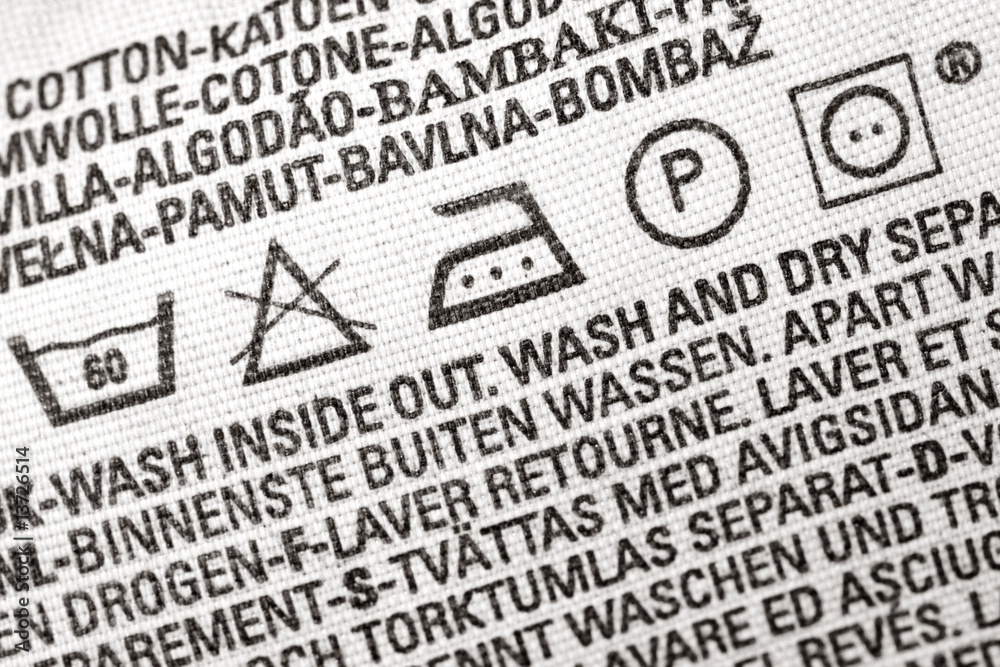ER_dry_clean_chemical: (613, 111, 758, 254)
ER_iron_high_temp: (402, 175, 596, 330)
ER_no_bleach: (213, 237, 388, 387)
ER_tumble_dry_normal_heat: (766, 33, 960, 227)
ER_wash_60: (0, 266, 198, 444)
